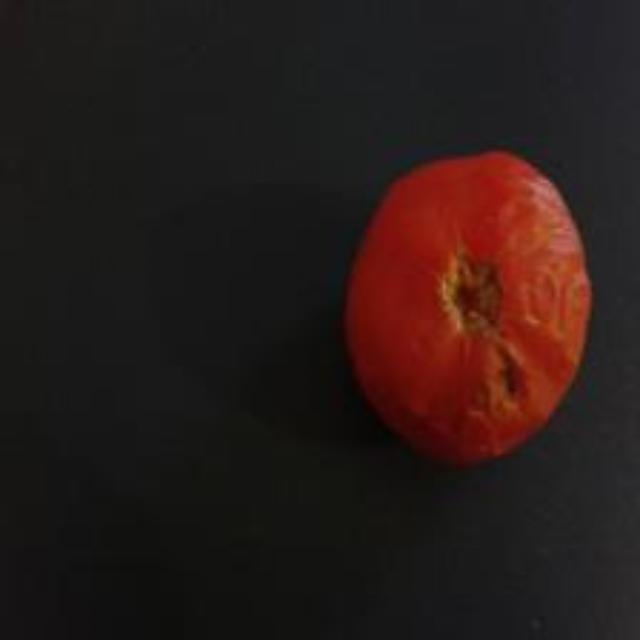defect: (344, 146, 594, 471)
